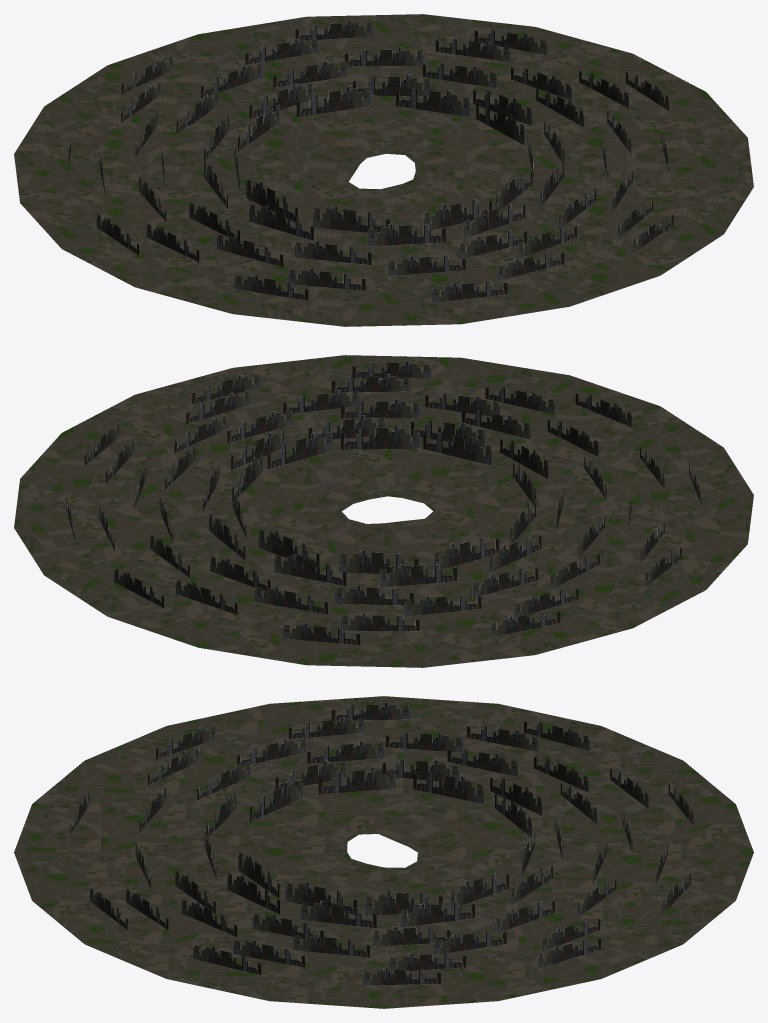
The model's file is VRFIRST.OBJ.
3 views of the same model, one above another, from view 1: azimuth 30°, elevation 25°; view 2: azimuth 150°, elevation 25°; view 3: azimuth 270°, elevation 25° (orthographic).
Visible parts, largest first — view 1: Enkei_Ground__VRFirst_Enkei_Ground, Enkei_Far_Plane__VRFirst_Enkei_Far_Plane; view 2: Enkei_Ground__VRFirst_Enkei_Ground, Enkei_Far_Plane__VRFirst_Enkei_Far_Plane; view 3: Enkei_Ground__VRFirst_Enkei_Ground, Enkei_Far_Plane__VRFirst_Enkei_Far_Plane.
Part boxes in pixels (x1,y1,x2,y2): Enkei_Ground__VRFirst_Enkei_Ground: (14,14,753,326); Enkei_Far_Plane__VRFirst_Enkei_Far_Plane: (67,20,699,303); Enkei_Ground__VRFirst_Enkei_Ground: (14,355,753,667); Enkei_Far_Plane__VRFirst_Enkei_Far_Plane: (66,361,701,645); Enkei_Ground__VRFirst_Enkei_Ground: (14,696,753,1008); Enkei_Far_Plane__VRFirst_Enkei_Far_Plane: (70,702,693,985).
Bounding box in the file's own units: 98769 × 3472 × 98769.
